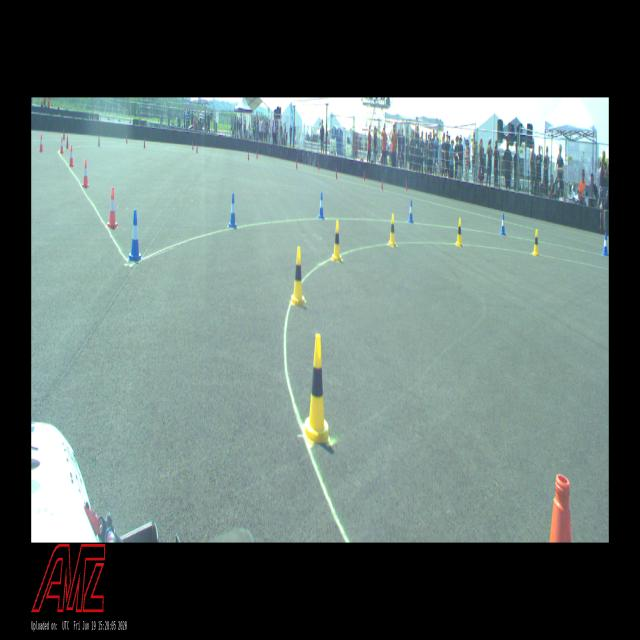blue_cone: (129, 210, 141, 260), (229, 192, 237, 228), (318, 193, 324, 219), (602, 233, 608, 255), (408, 200, 413, 222), (500, 214, 505, 235)
orange_cone: (108, 188, 117, 227), (82, 160, 89, 187), (69, 146, 74, 166), (39, 135, 43, 152), (60, 136, 63, 153)
unknown_cone: (66, 135, 68, 148), (381, 178, 383, 190), (98, 135, 100, 146), (406, 180, 408, 190), (126, 134, 128, 144), (196, 143, 198, 153), (296, 160, 298, 169), (318, 161, 320, 170), (256, 150, 258, 159), (144, 139, 146, 148), (192, 141, 194, 150), (336, 168, 337, 179), (364, 171, 365, 180), (248, 151, 249, 160), (64, 132, 65, 140)
yellow_cone: (303, 335, 330, 443), (291, 247, 305, 305), (332, 220, 341, 261), (388, 214, 396, 246), (456, 218, 462, 246), (533, 230, 539, 255)
